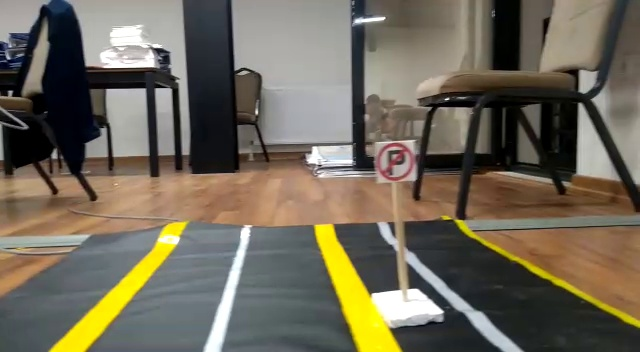park_yapilmaz: (373, 142, 416, 182)
